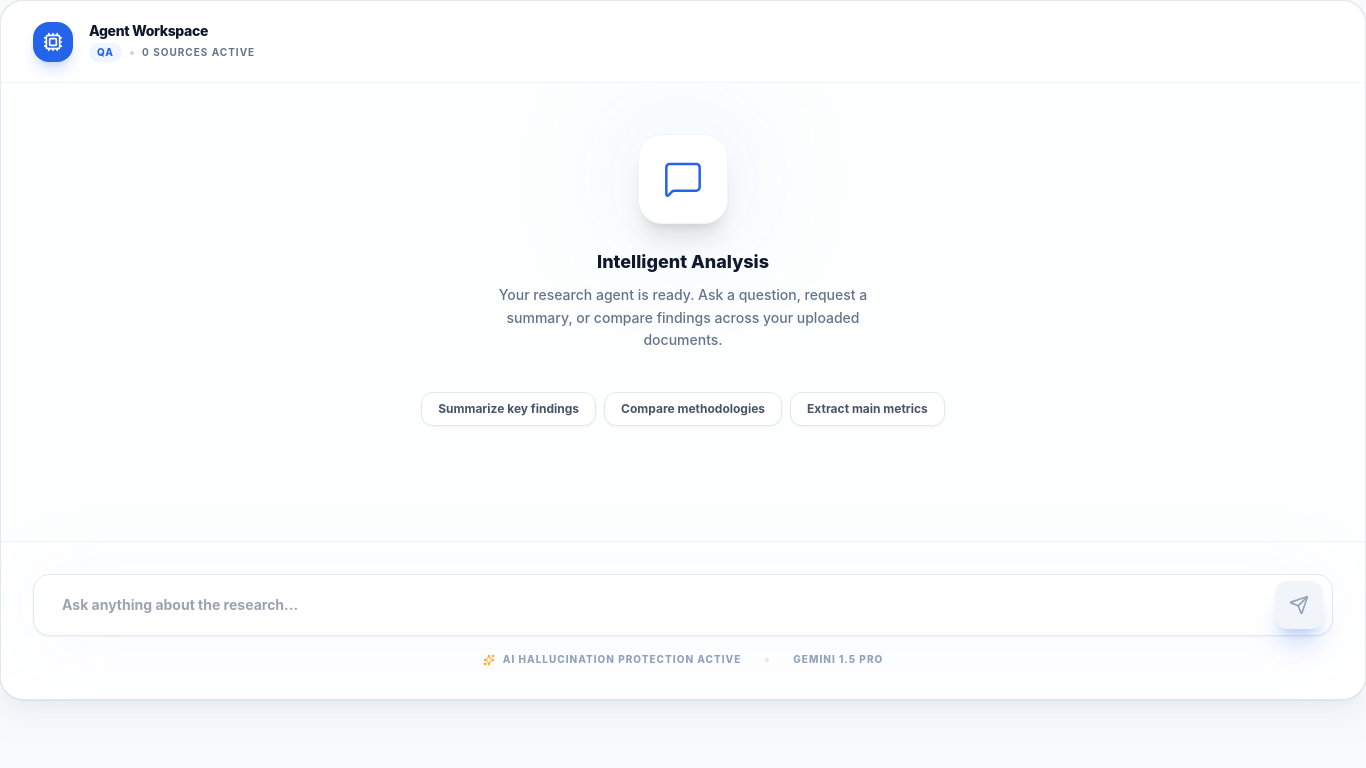
Test: ChatInterface › displays user message after submit
(page scrolled)
Type "What is the answer?" into the field with placeholder "Ask anything about the research..." at [683, 605], box top-left (33, 574), bottom-right (1333, 636)
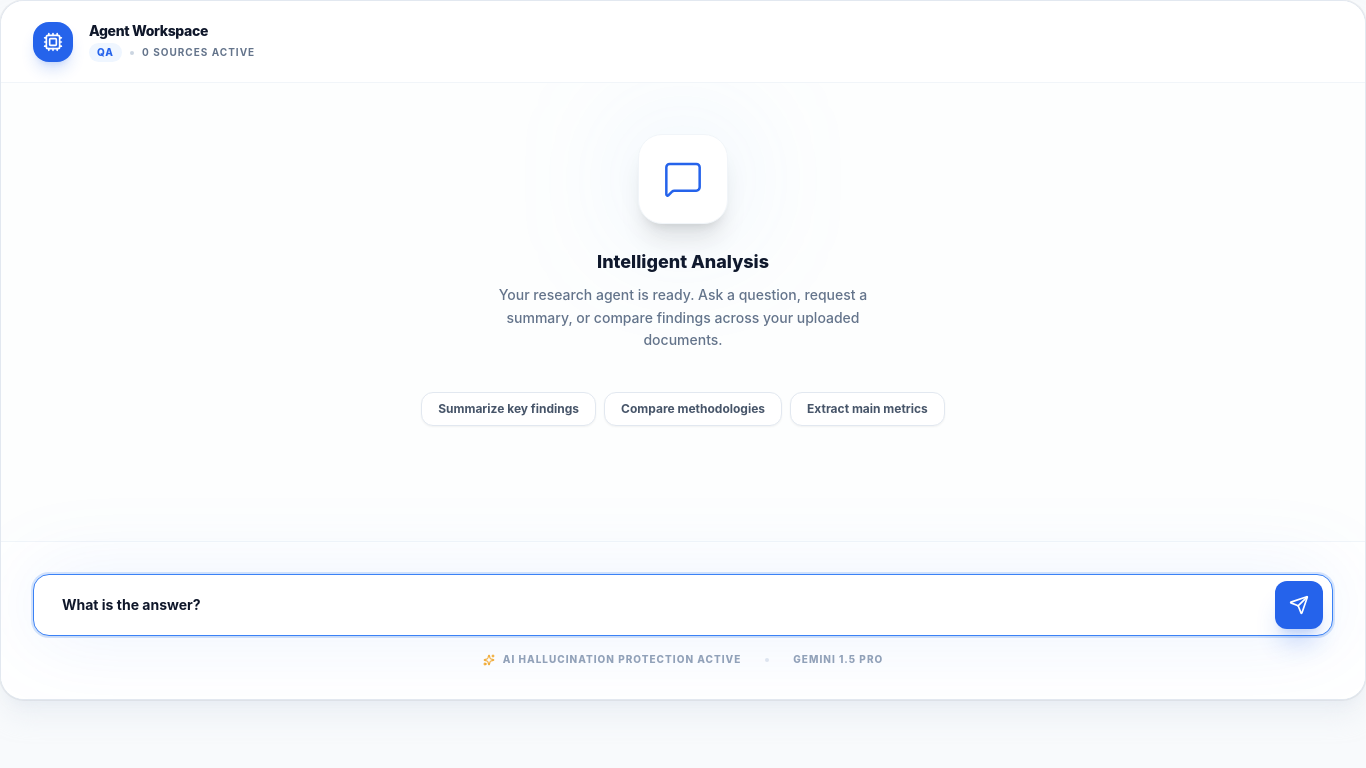
Click the button named "Send message" at [1299, 605], box top-left (1275, 581), bottom-right (1323, 629)
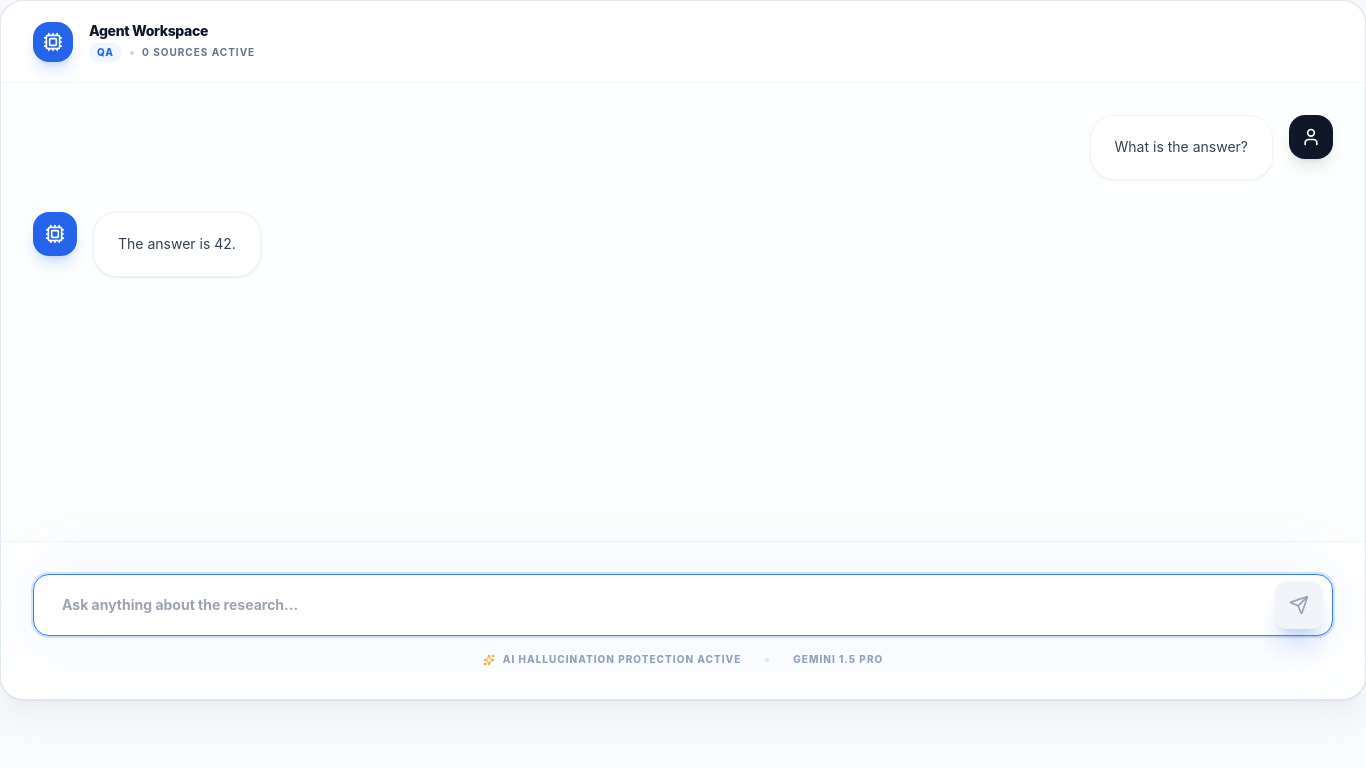
Result: the text "What is the answer?" is shown at top-left (1114, 136), bottom-right (1248, 159)
